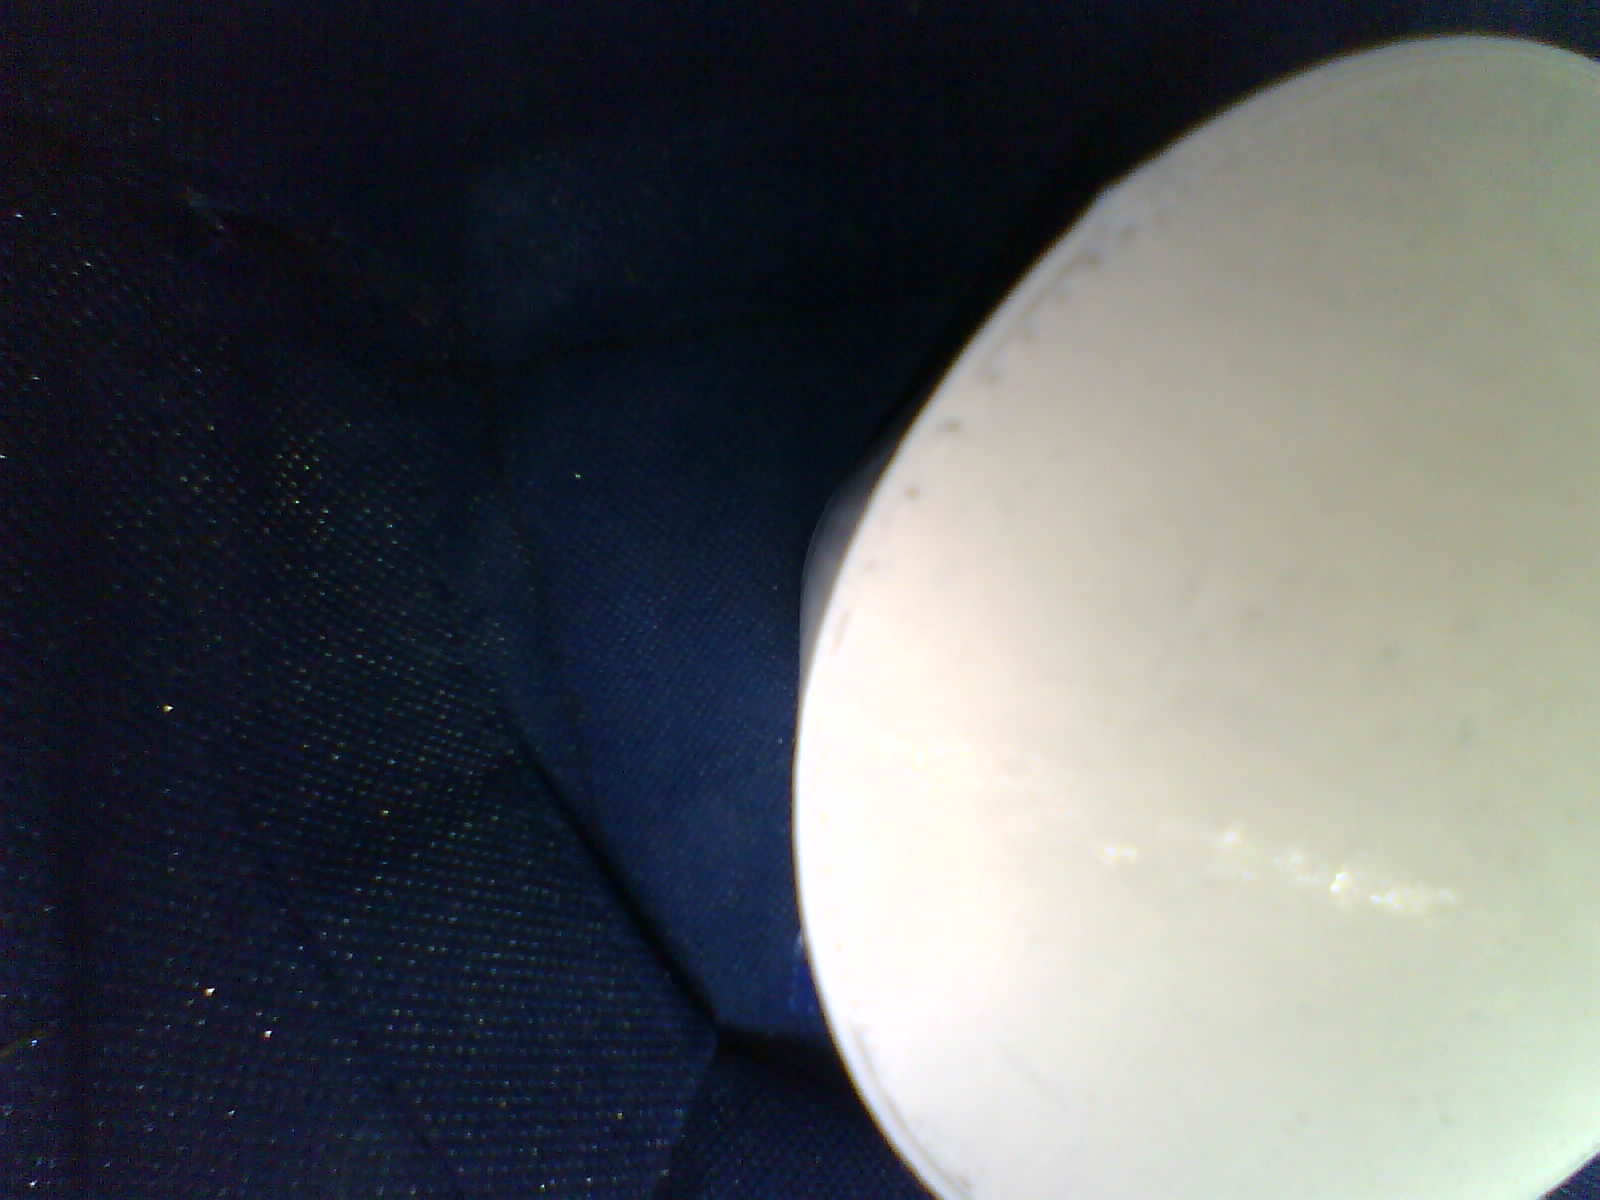cylinder-hard: (757, 14, 1600, 1200)
